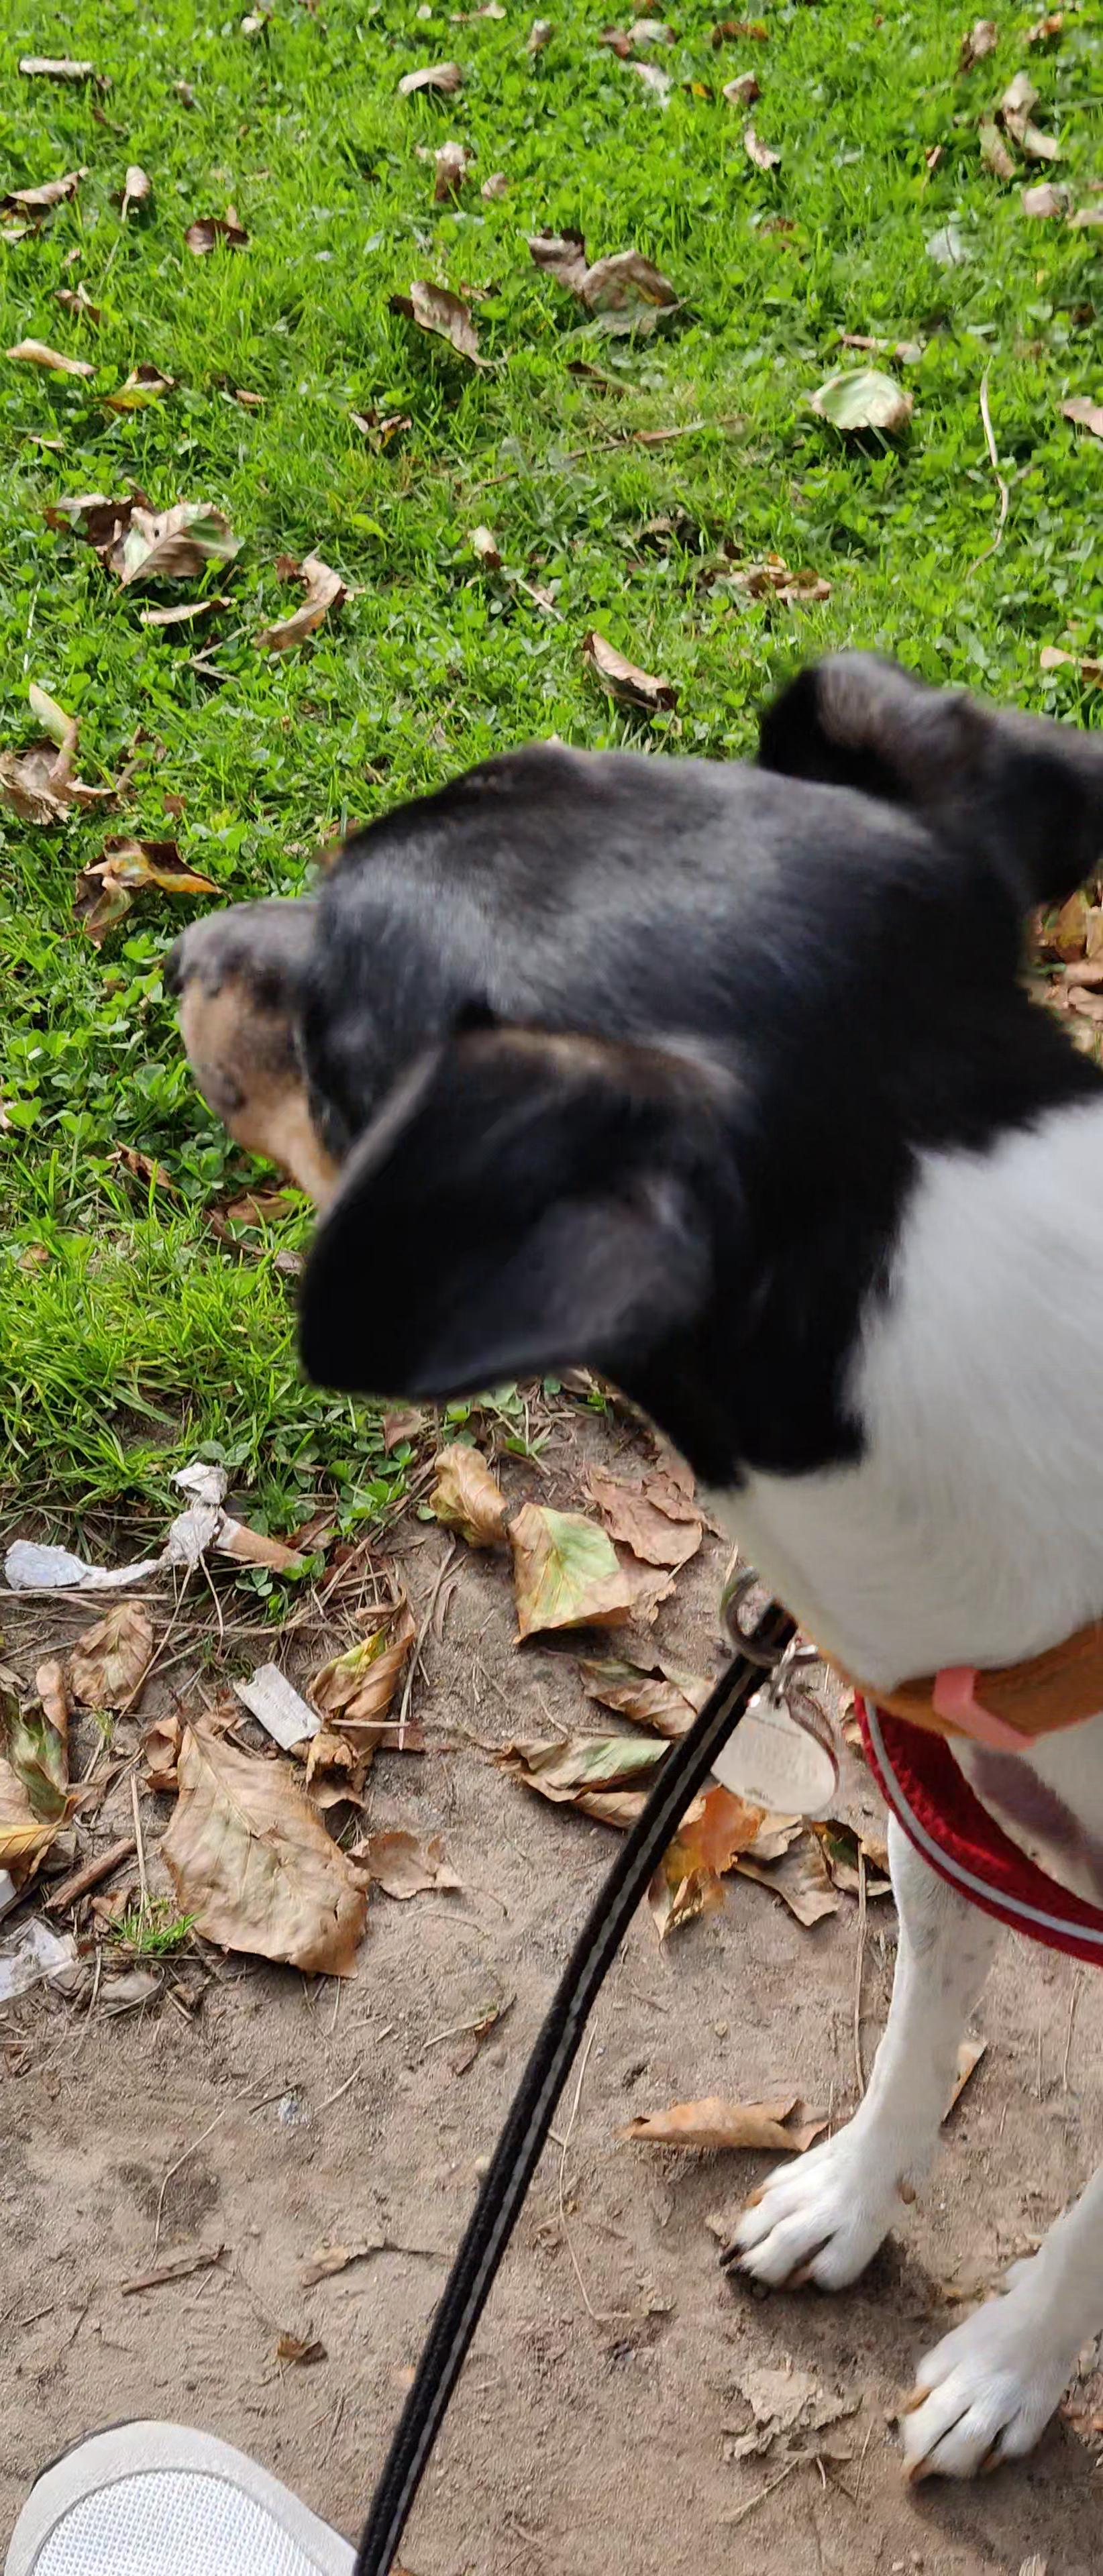Dog: (133, 632, 1103, 2495)
